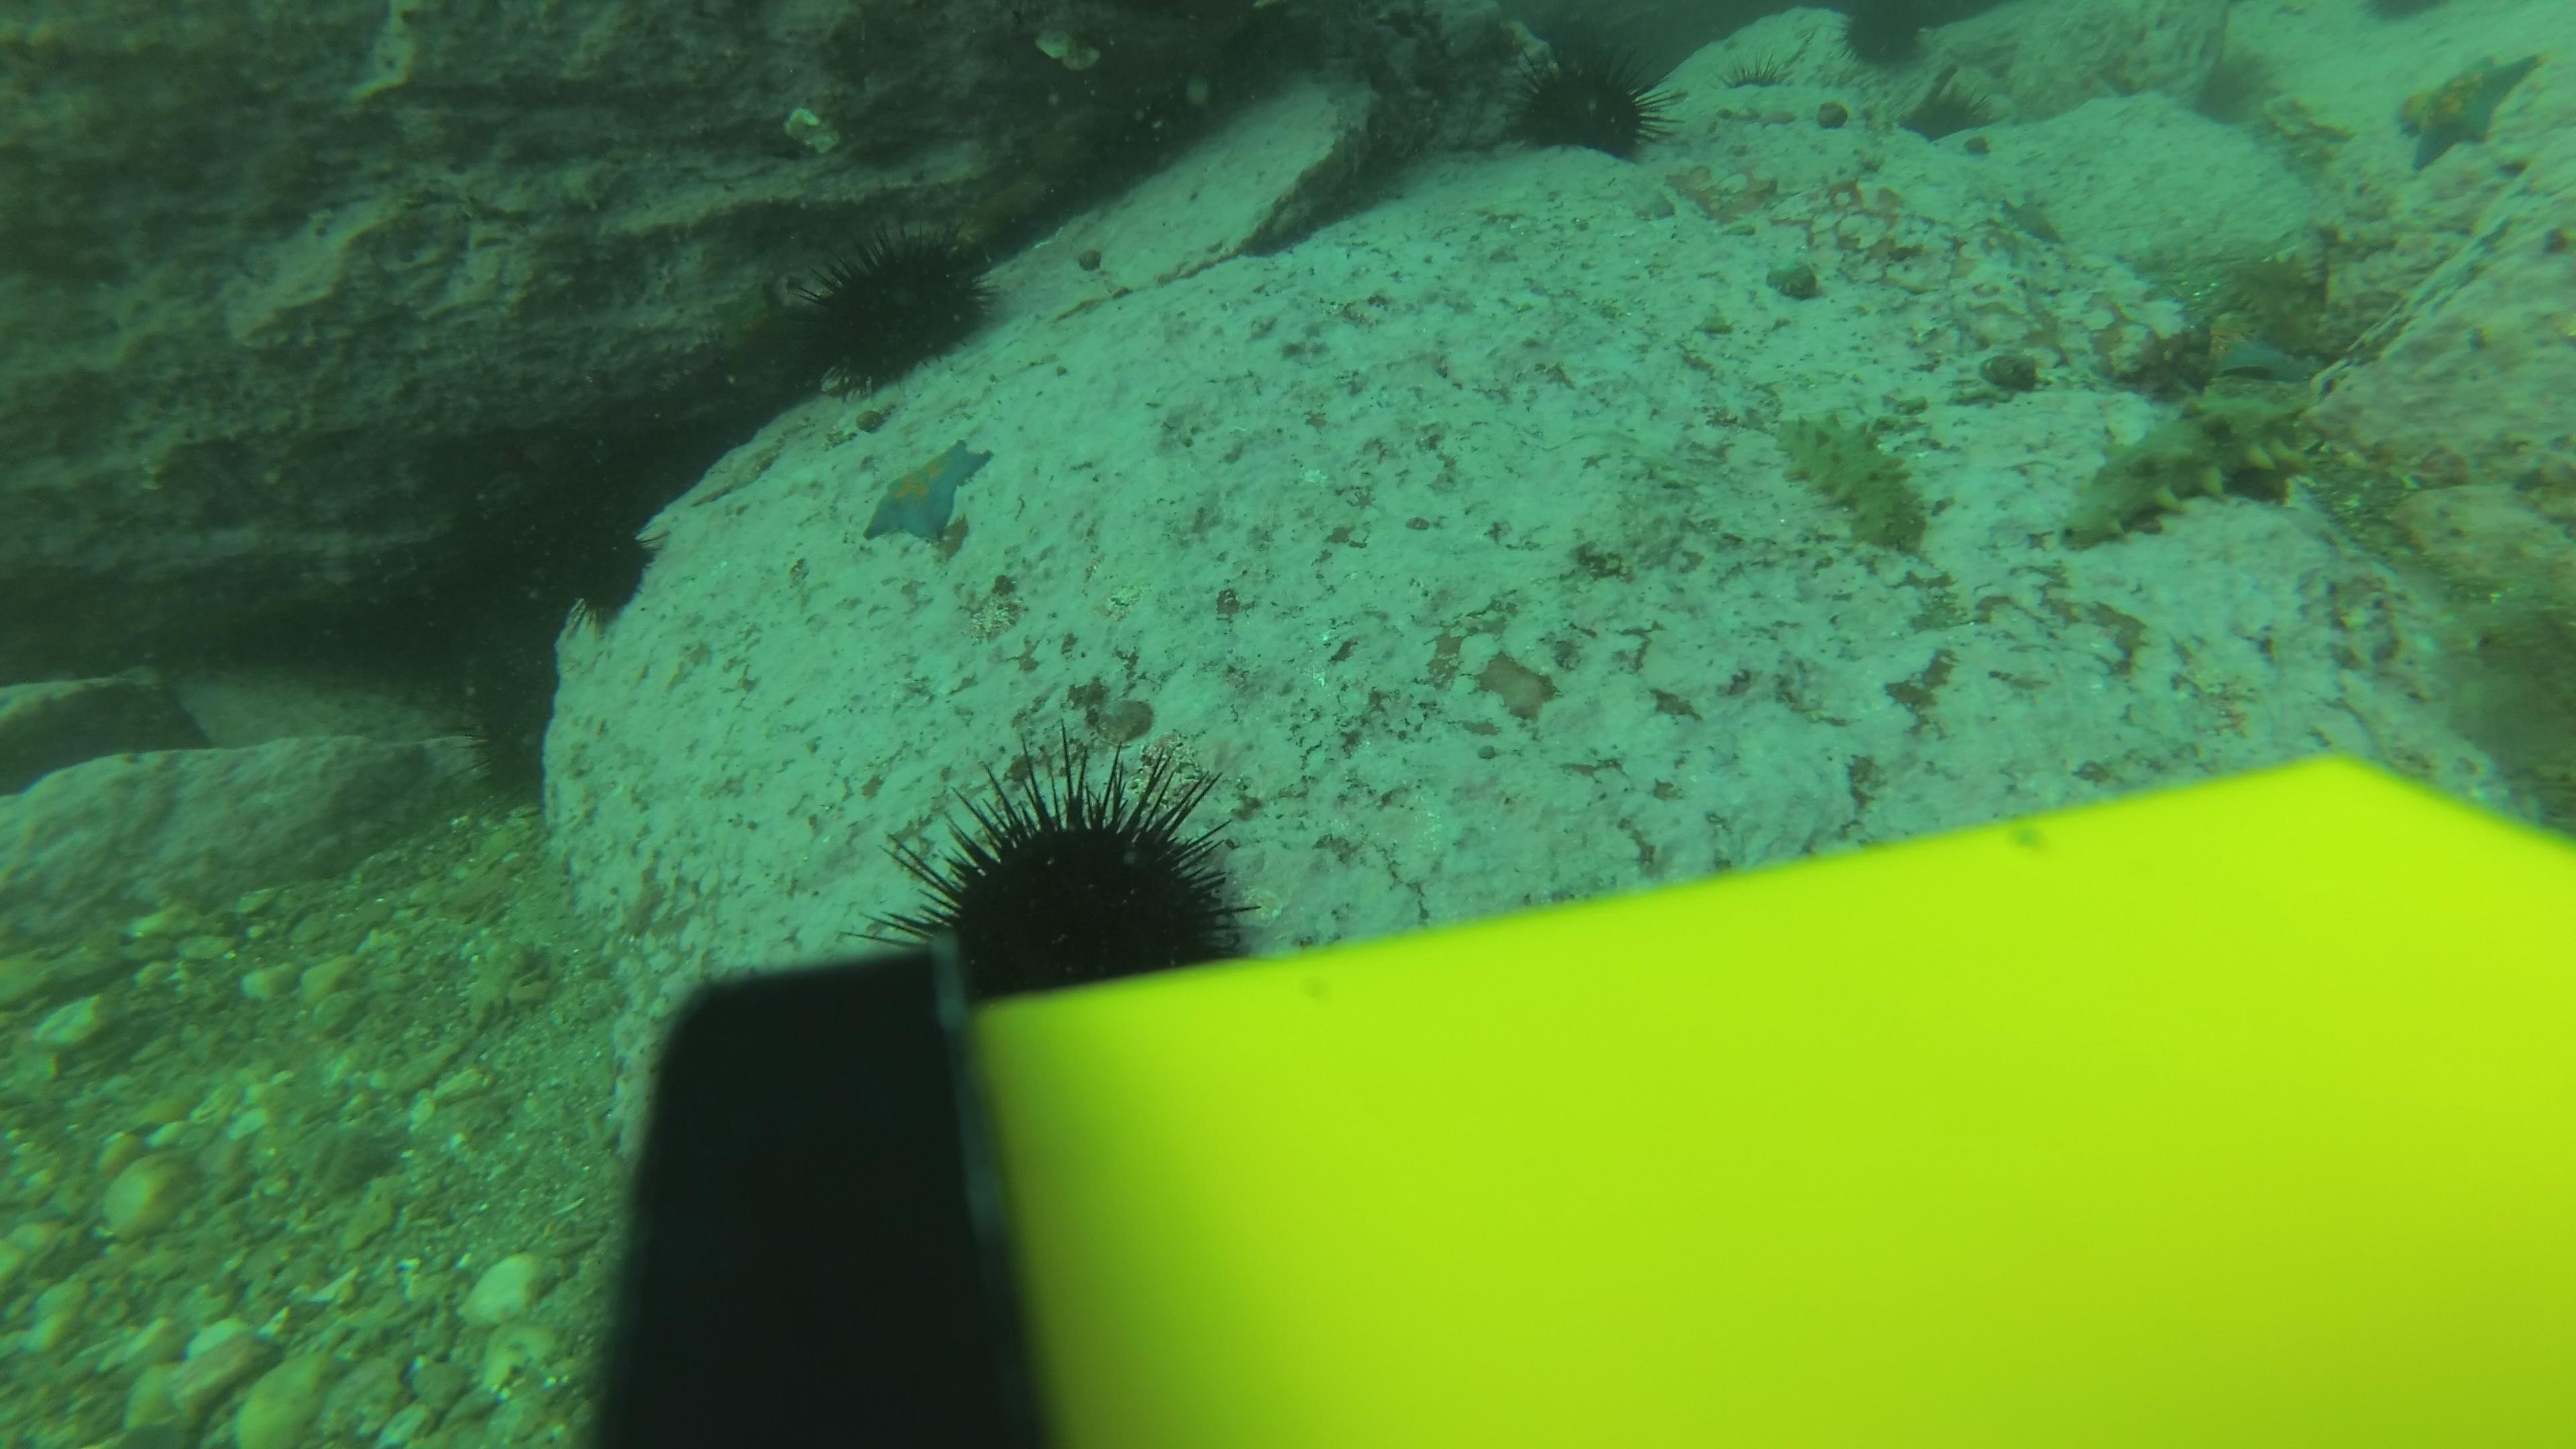echinus: (892, 743, 1260, 1005), (789, 219, 1001, 391), (453, 632, 573, 816), (1499, 42, 1672, 168), (550, 495, 667, 628), (1828, 0, 1946, 76), (1895, 78, 2006, 154), (1709, 50, 1808, 110)
holothurian: (2054, 380, 2332, 552), (1771, 403, 1941, 563)
starfish: (2388, 42, 2551, 175), (856, 433, 1000, 550), (2197, 308, 2327, 389), (1992, 188, 2068, 249)
